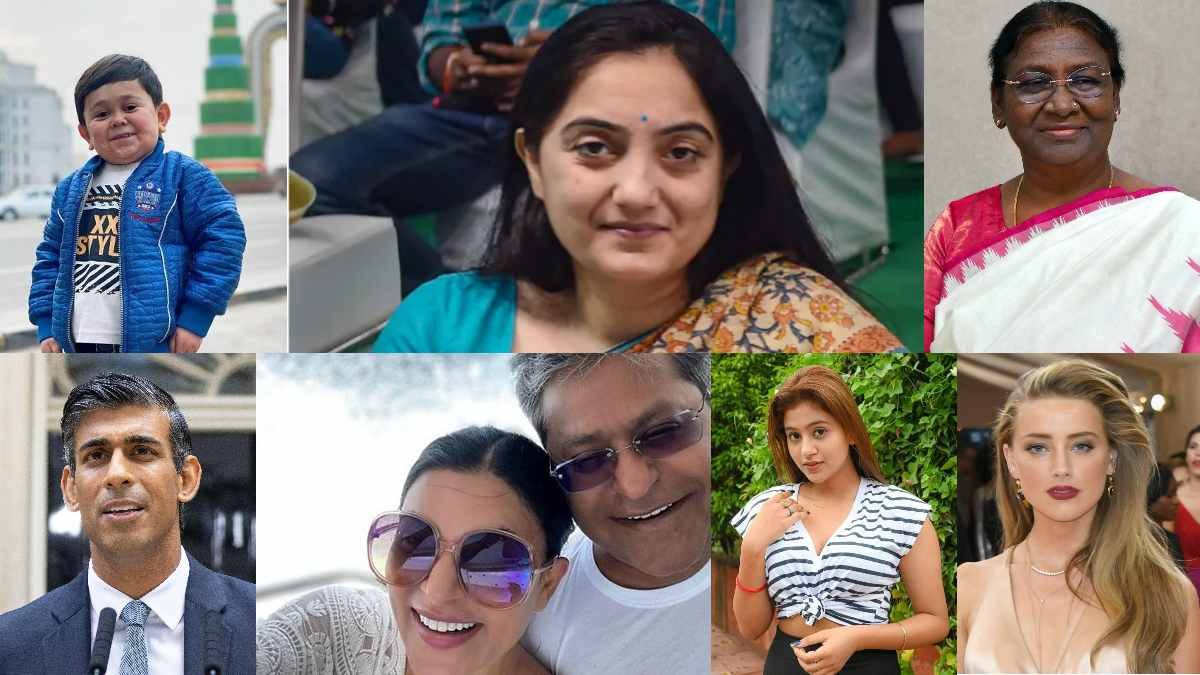men: (498, 354, 718, 577), (36, 365, 228, 597), (58, 45, 186, 173)
women: (508, 3, 808, 327), (382, 419, 562, 675), (985, 355, 1168, 572), (974, 4, 1164, 198), (740, 367, 888, 502)
